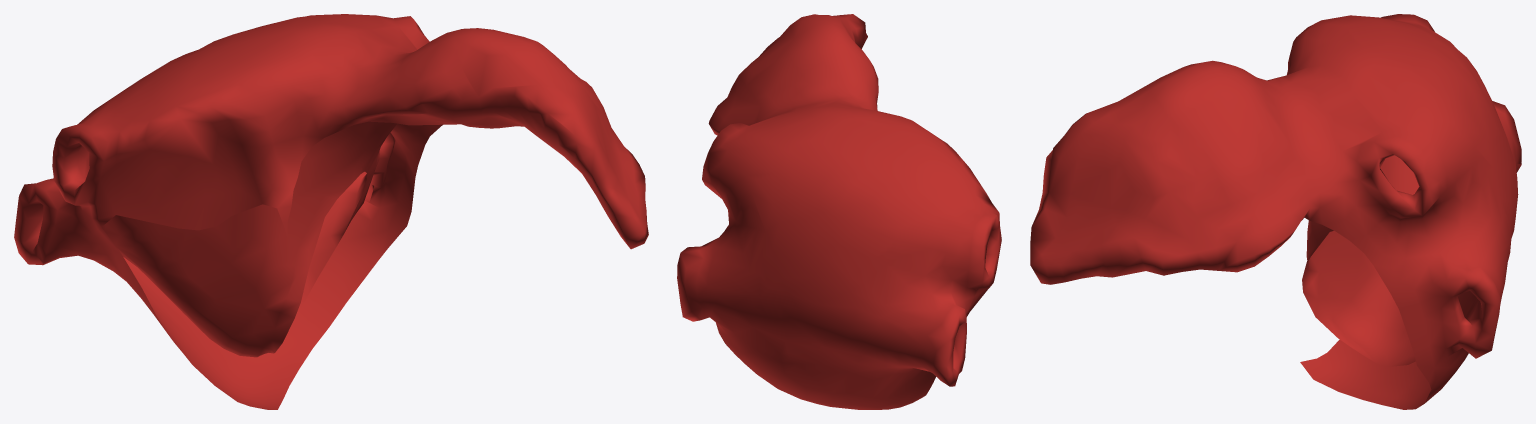
The model's file is circulatorio-left-atrium.glb.
3 renders of one model, left to right at view 1: azimuth 30°, elevation 25°; view 2: azimuth 150°, elevation 25°; view 3: azimuth 270°, elevation 25°, orthographic. The views are drawn at different scales.
Parts seen in each view (by area): view 1: Left atrium; view 2: Left atrium; view 3: Left atrium.
Part boxes in pixels (x1=…): Left atrium: x1=14, y1=14, x2=648, y2=409; Left atrium: x1=677, y1=14, x2=1001, y2=409; Left atrium: x1=1030, y1=14, x2=1521, y2=409.
Bounding box in the file's own units: 0.0894 × 0.0752 × 0.0863.
